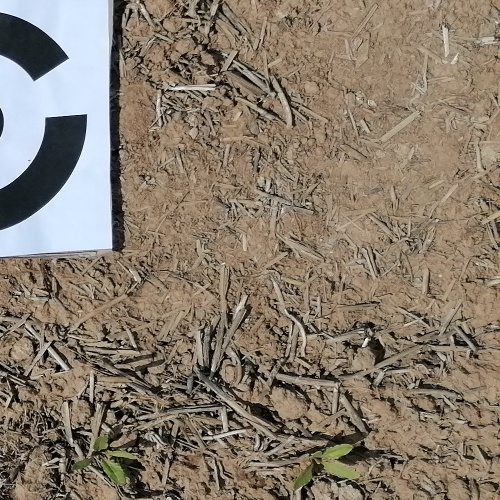beet: (73, 437, 138, 487), (294, 441, 360, 490)
